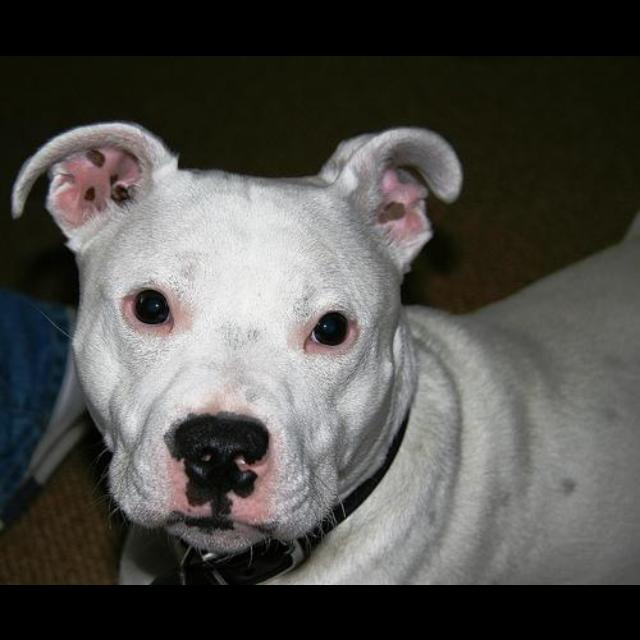amstaff: (11, 120, 639, 585)
